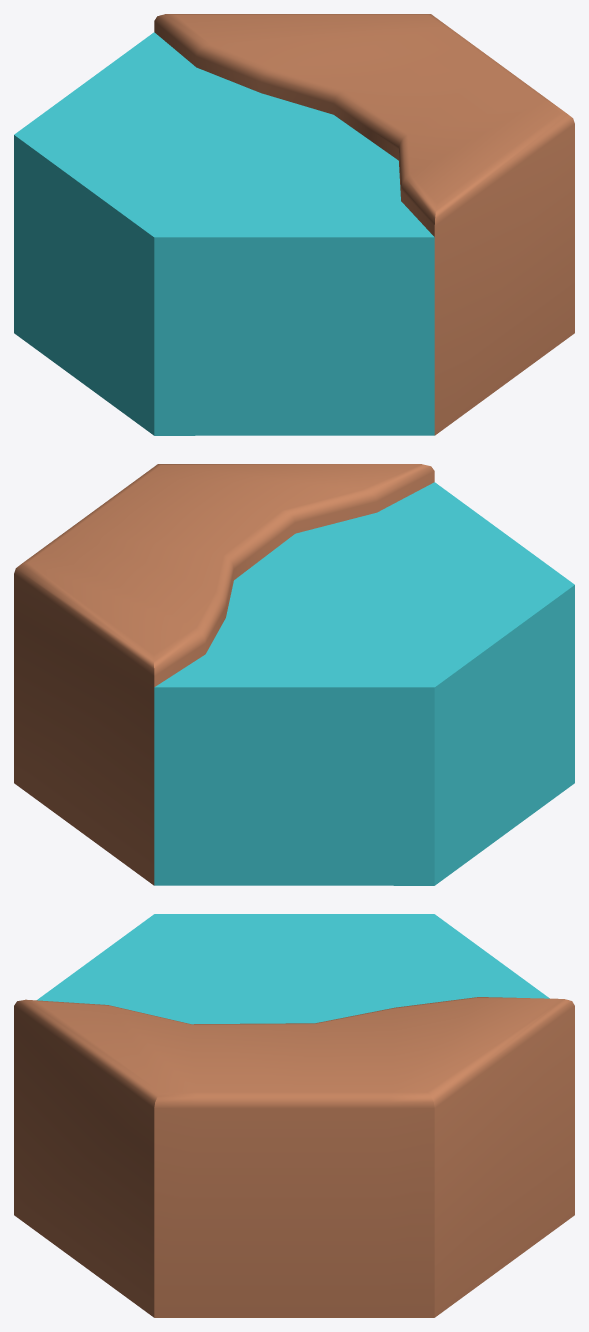
File: hex_rock_waterC.glb
The picture shows the model from 3 angles, top to bottom: view 1: azimuth 30°, elevation 25°; view 2: azimuth 150°, elevation 25°; view 3: azimuth 270°, elevation 25°; orthographic projection.
Visible parts, largest first — view 1: hex_rock_waterC; view 2: hex_rock_waterC; view 3: hex_rock_waterC.
Part boxes in pixels (bbox=[...]): hex_rock_waterC: bbox=[14, 14, 574, 435]; hex_rock_waterC: bbox=[14, 464, 574, 885]; hex_rock_waterC: bbox=[14, 914, 574, 1317].
Size of the model in its own units: 2 by 1 by 2.31.
